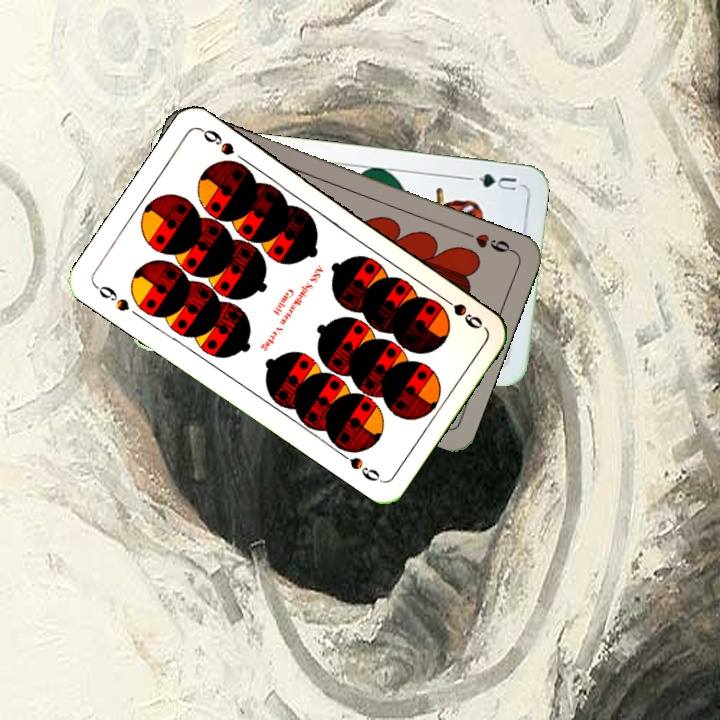GU: (464, 169, 519, 195)
H9: (460, 227, 517, 256)
S9: (434, 290, 486, 332), (90, 280, 132, 315)
